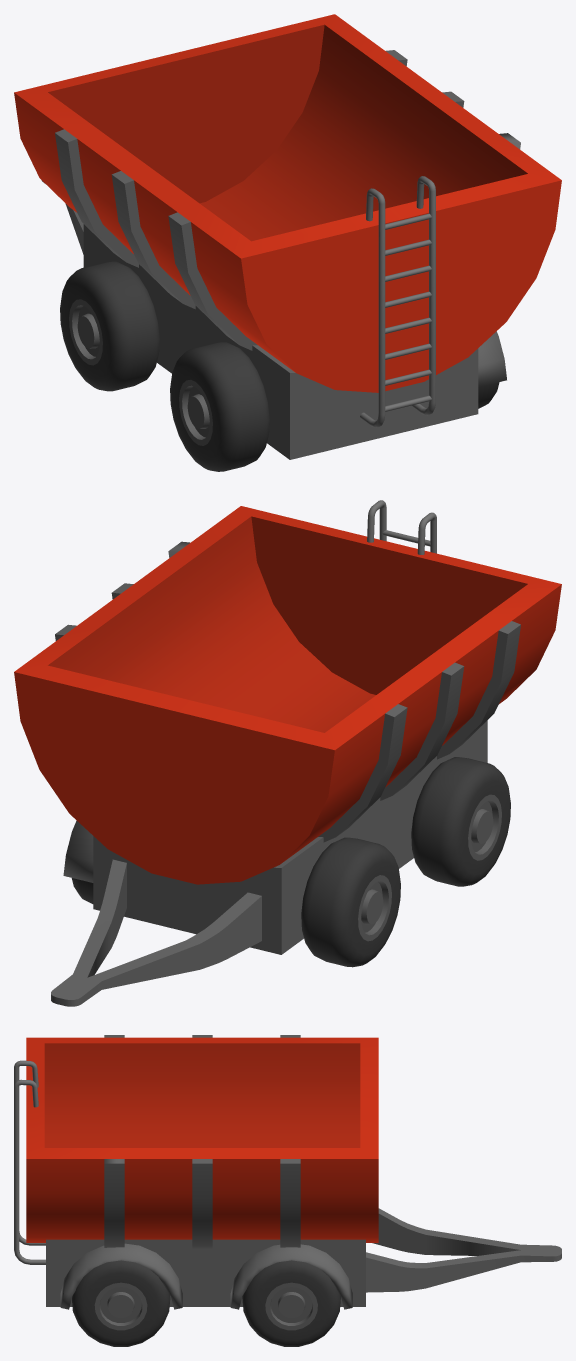
The model's file is Vehicle6.fbx.
3 renders of one model, top to bottom at view 1: azimuth 30°, elevation 25°; view 2: azimuth 150°, elevation 25°; view 3: azimuth 270°, elevation 25°, orthographic. The views are drawn at different scales.
Visible parts, largest first — view 1: Cube.035, Cylinder.044, Cylinder.020; view 2: Cube.035, Cylinder.020, Cylinder.044; view 3: Cube.035, Cylinder.020, Cylinder.044.
Boxes of the visible parts, left/top/right/bottom form: Cube.035: left=14, top=14, right=561, bottom=459; Cylinder.044: left=170, top=342, right=499, bottom=471; Cylinder.020: left=60, top=261, right=159, bottom=391; Cube.035: left=14, top=500, right=561, bottom=1006; Cylinder.020: left=71, top=837, right=400, bottom=967; Cylinder.044: left=411, top=757, right=510, bottom=886; Cube.035: left=14, top=1035, right=561, bottom=1309; Cylinder.020: left=242, top=1260, right=340, bottom=1346; Cylinder.044: left=72, top=1260, right=170, bottom=1346.
Size of the model in its own units: 5.78 by 10.41 by 4.8.
